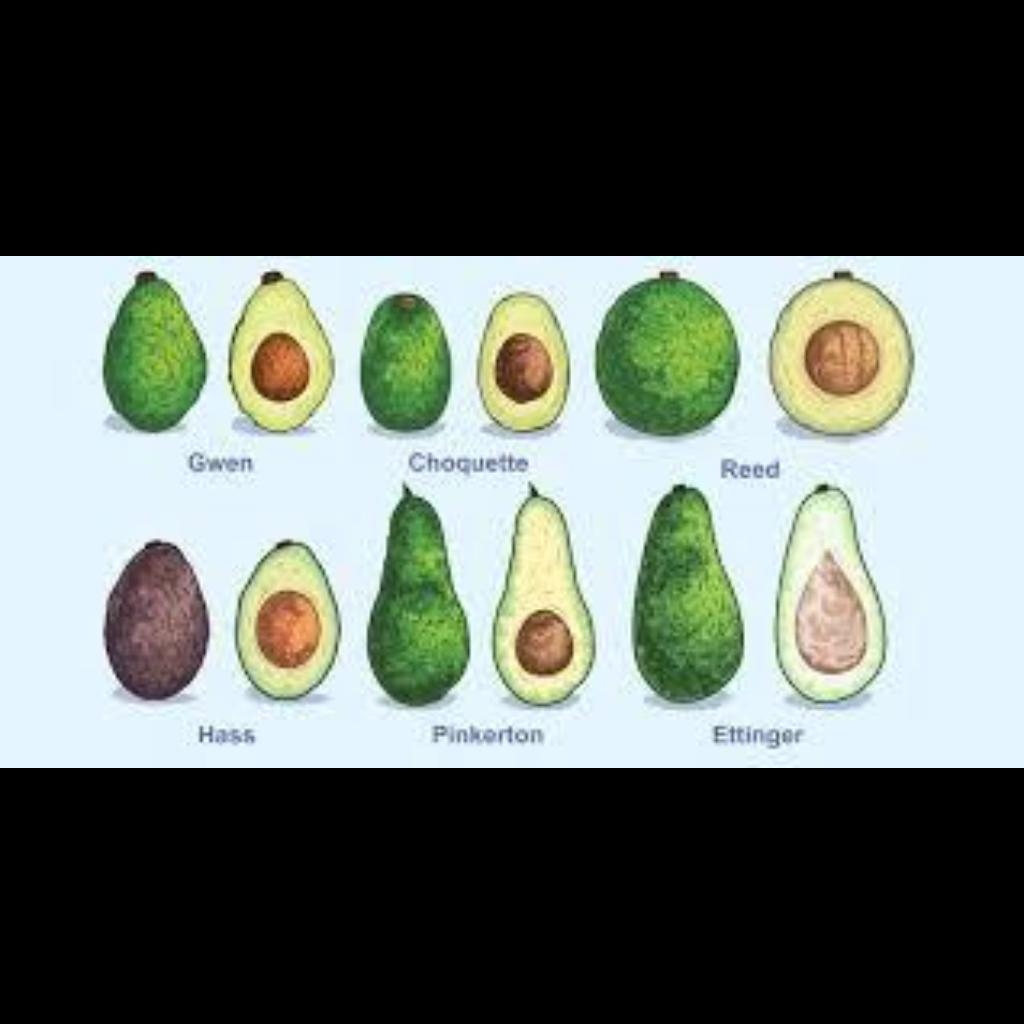antracnosis_fruto: (118, 541, 199, 692), (377, 509, 451, 657), (642, 494, 713, 626)
